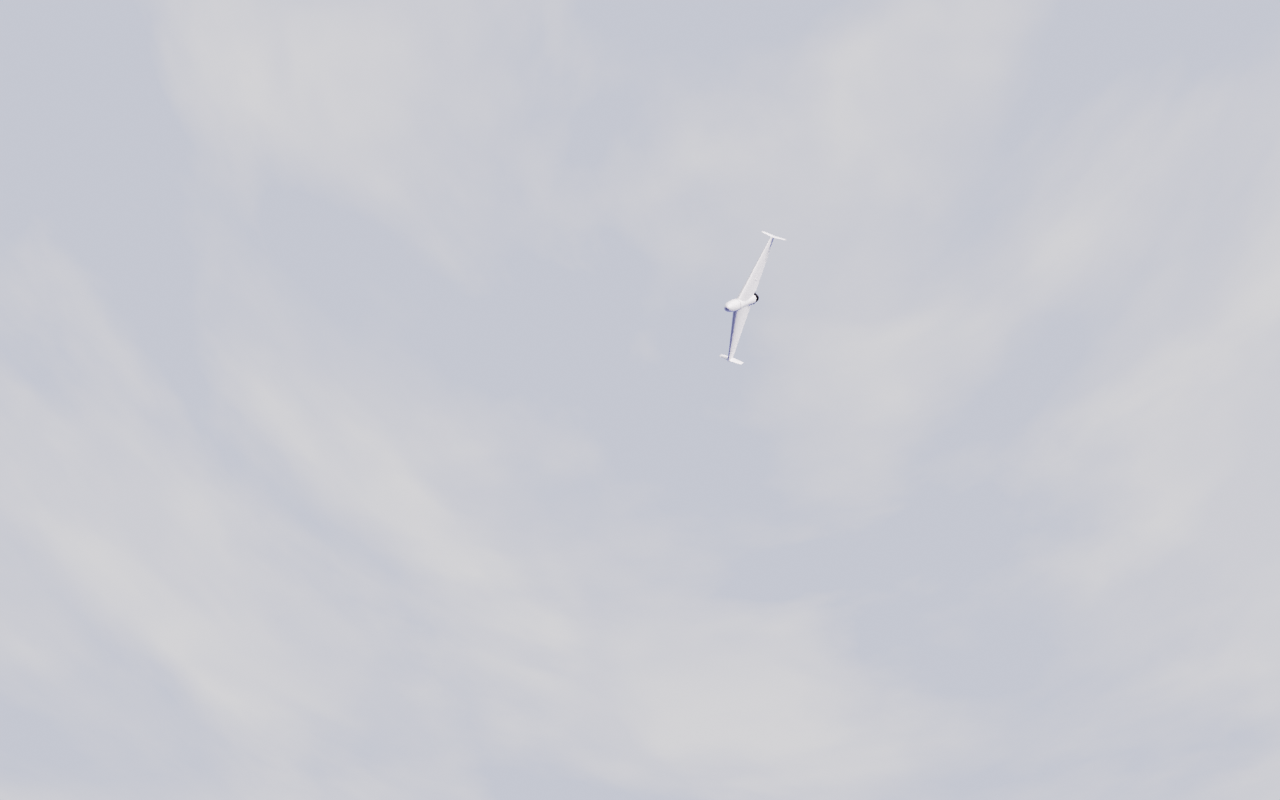shahed: (719, 231, 788, 367)
